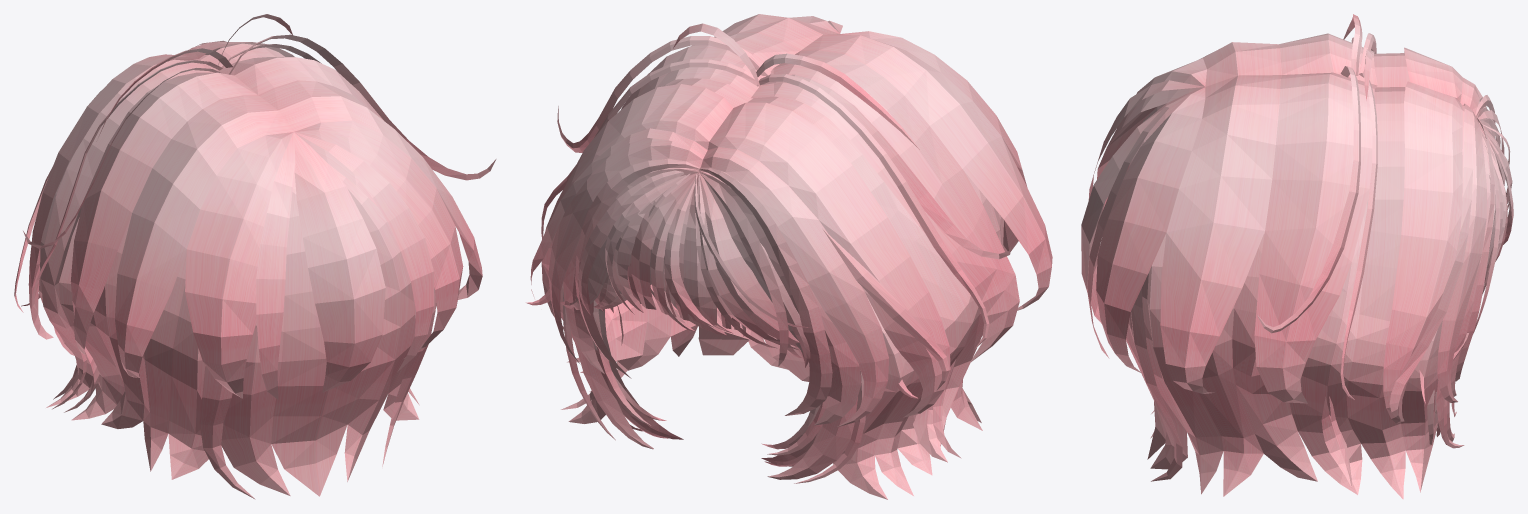
File: hair_2__Object_6.glb
3 views of the same model, side by side, from view 1: azimuth 30°, elevation 25°; view 2: azimuth 150°, elevation 25°; view 3: azimuth 270°, elevation 25° (orthographic). The views are drawn at different scales.
Parts seen in each view (by area): view 1: geometry_0; view 2: geometry_0; view 3: geometry_0.
Boxes of the visible parts, box(x1,y1,x2,y2) form: geometry_0: box(14, 14, 496, 499); geometry_0: box(526, 14, 1052, 499); geometry_0: box(1081, 14, 1513, 499).
Bounding box in the file's own units: 1.82 × 1.58 × 1.44.
Materials: 1 (1 with a texture image).
